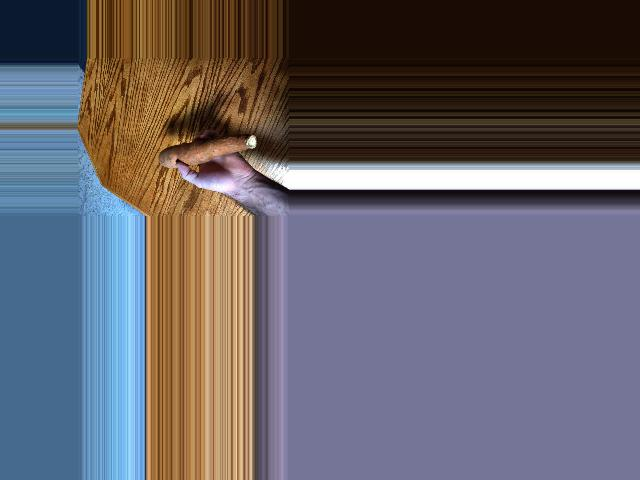sweet_potato: (153, 136, 260, 161)
